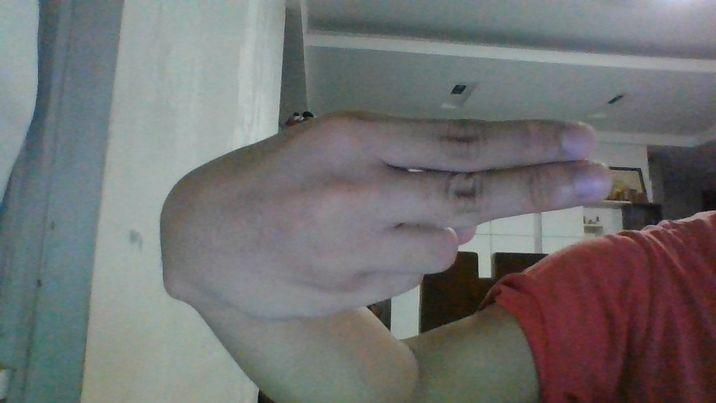h: (159, 108, 612, 323)
